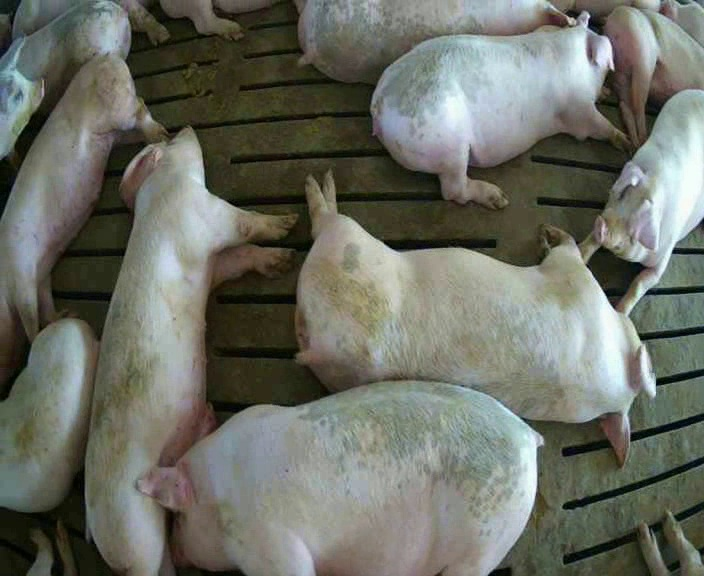pig: (297, 171, 654, 464), (85, 127, 295, 575), (142, 382, 541, 574), (0, 56, 166, 393), (371, 11, 629, 208), (579, 90, 703, 314), (294, 1, 575, 83), (0, 319, 97, 511), (604, 6, 703, 146), (0, 37, 44, 167)
